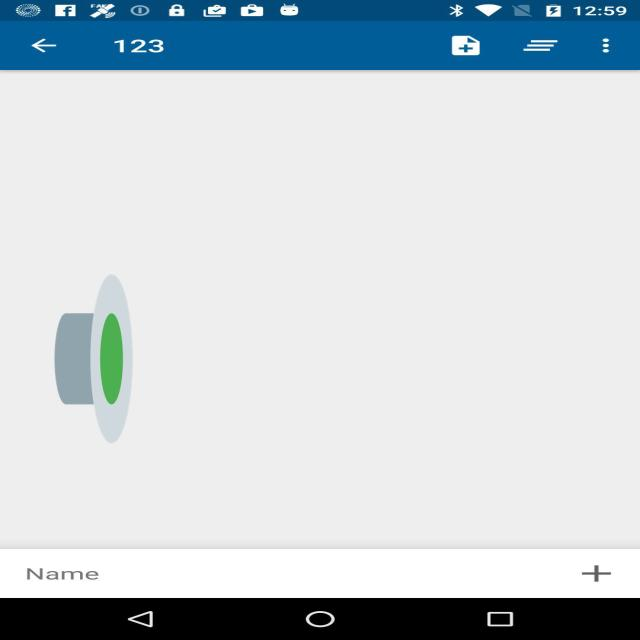social proof: (54, 203, 132, 515)
